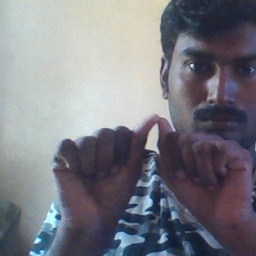A: (76, 113, 232, 214)
